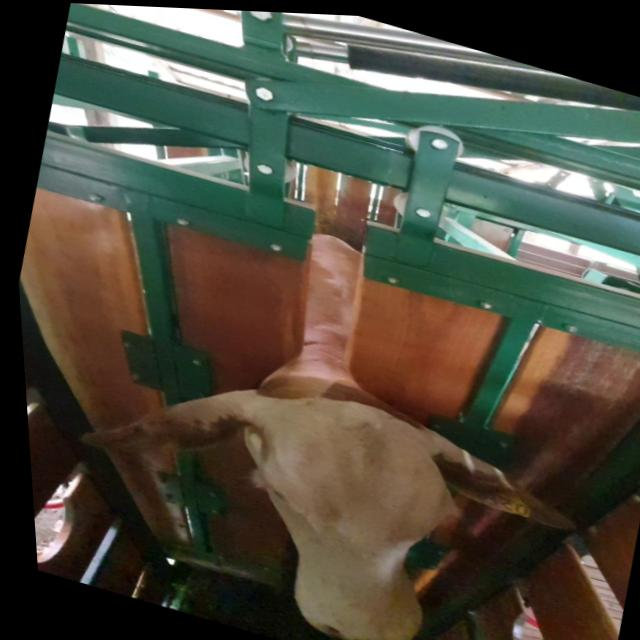cowFace: (213, 375, 472, 640)
